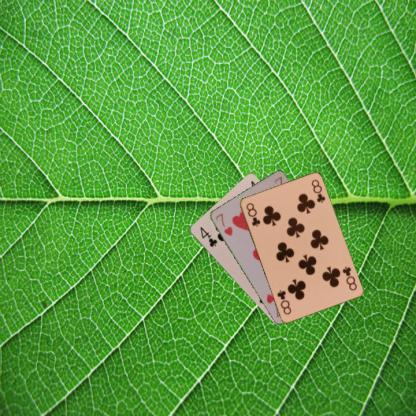4c: (197, 224, 218, 249)
7h: (212, 210, 233, 238)
8c: (339, 264, 358, 292), (243, 200, 261, 228)
